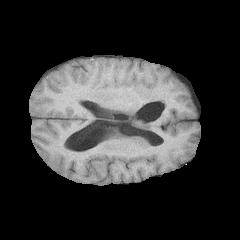glioma: (130, 82, 164, 129)
